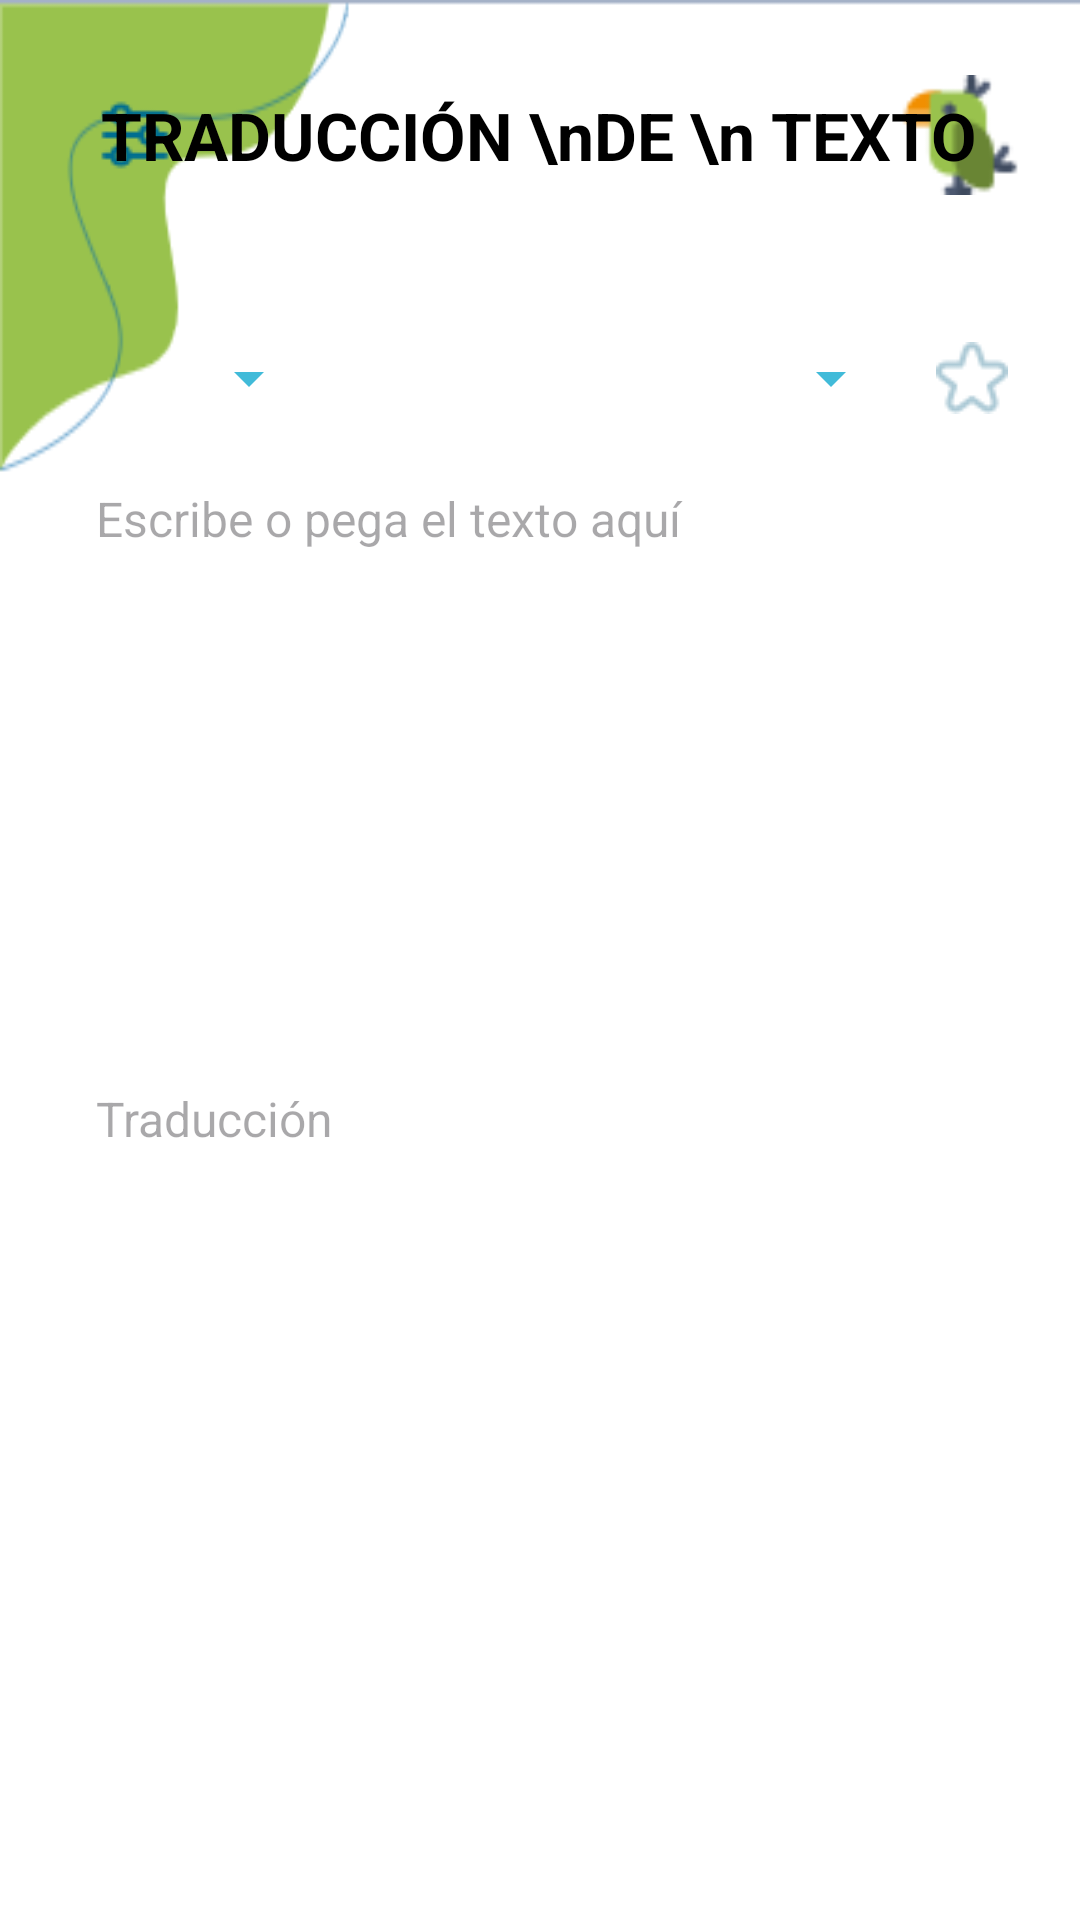

Where icons sit on this 1080×1920 app screen, as (left=x1, top=y1, right=x2, bottom=y2):
favorite: (left=936, top=342, right=1008, bottom=414)
